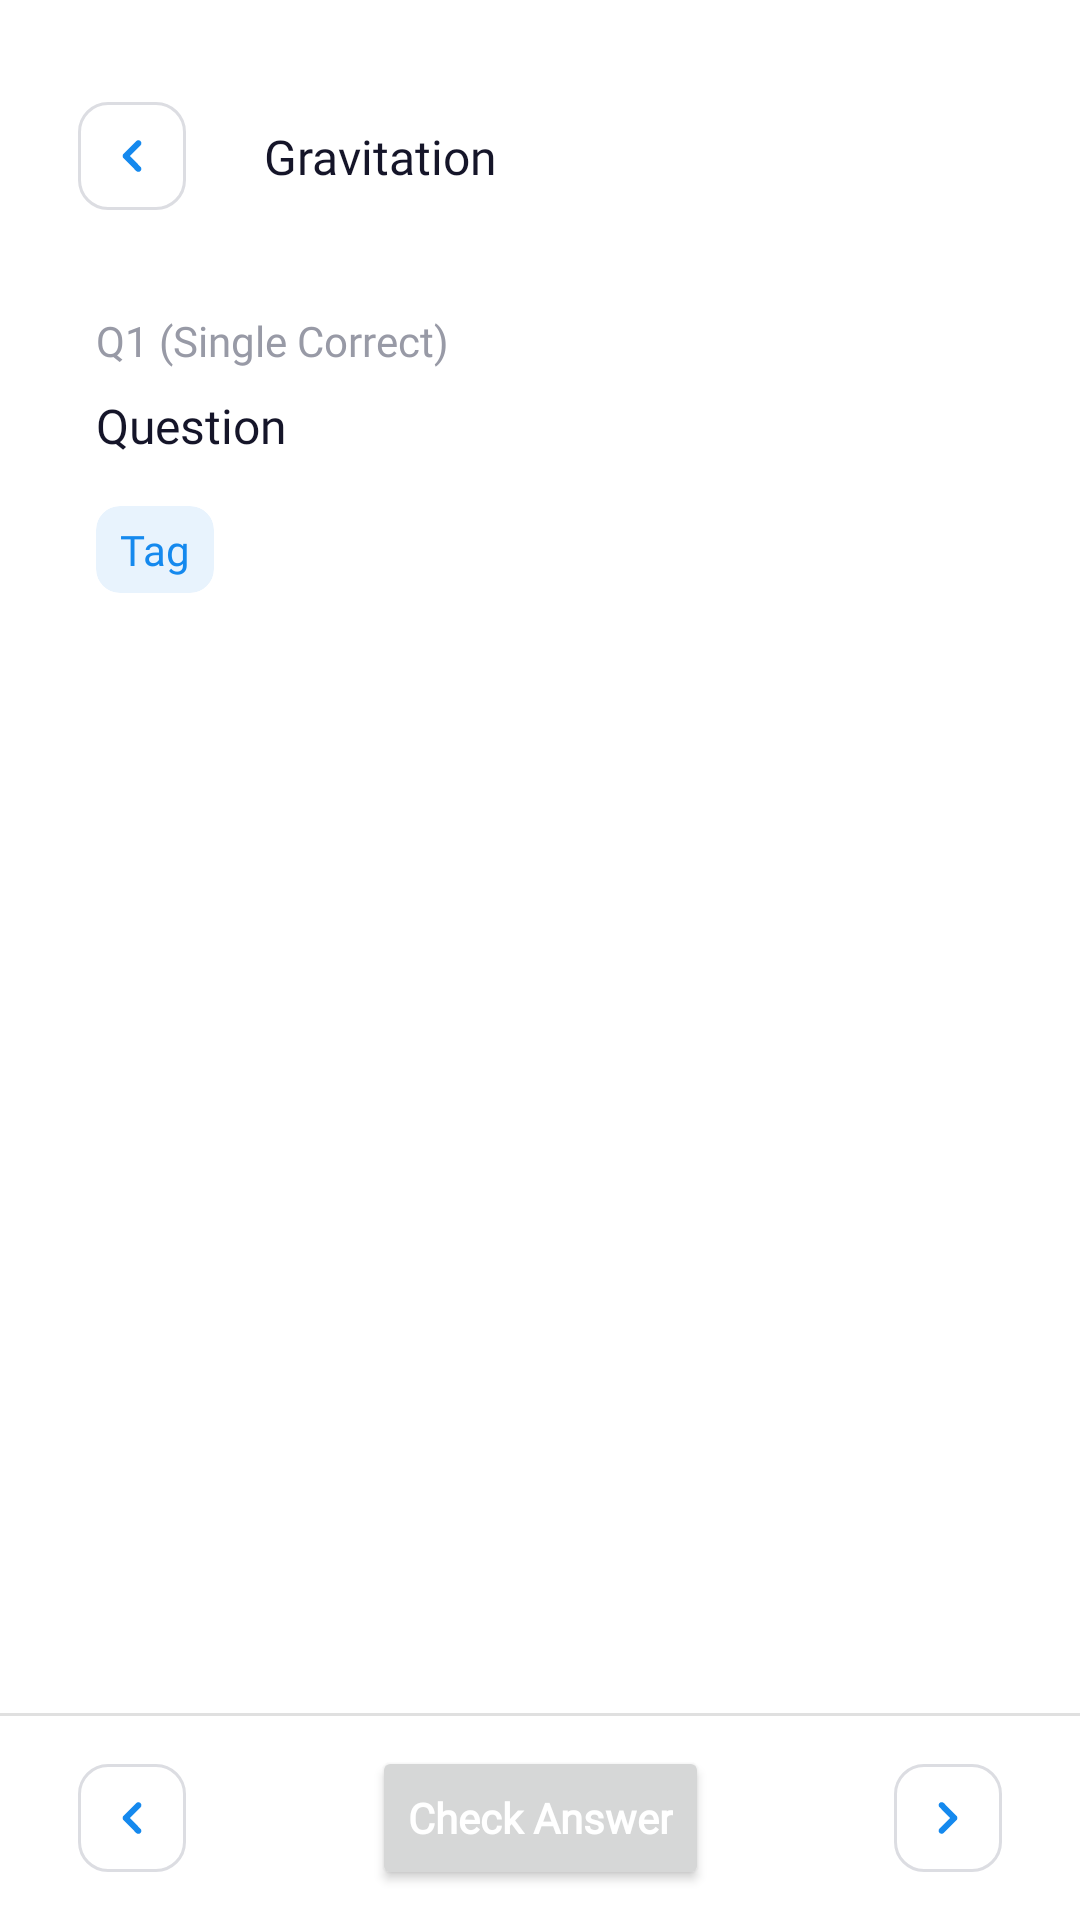

Icon bounding boxes for this 1080×1920 phone screenshot, format [left=x1, top=y1, right=x2, bottom=y2]:
back: [left=78, top=102, right=186, bottom=210], [left=78, top=1764, right=186, bottom=1872]
next: [left=894, top=1764, right=1002, bottom=1872]
